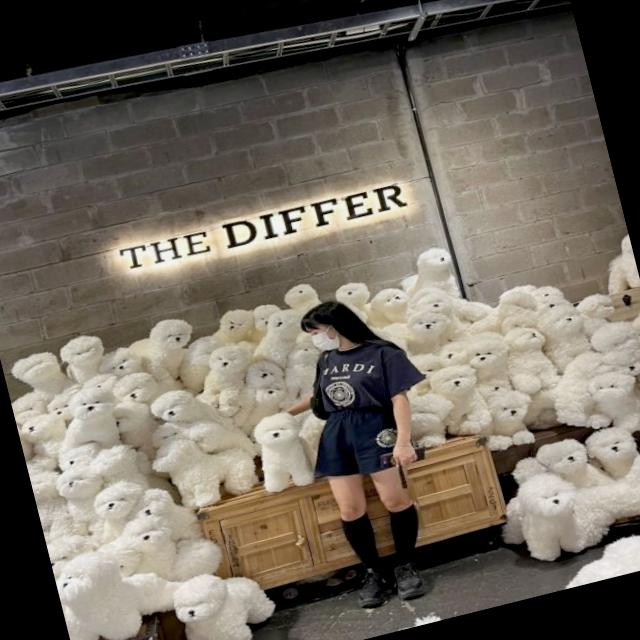shortpants: (296, 394, 405, 486)
shortsleeve: (294, 334, 431, 436)
